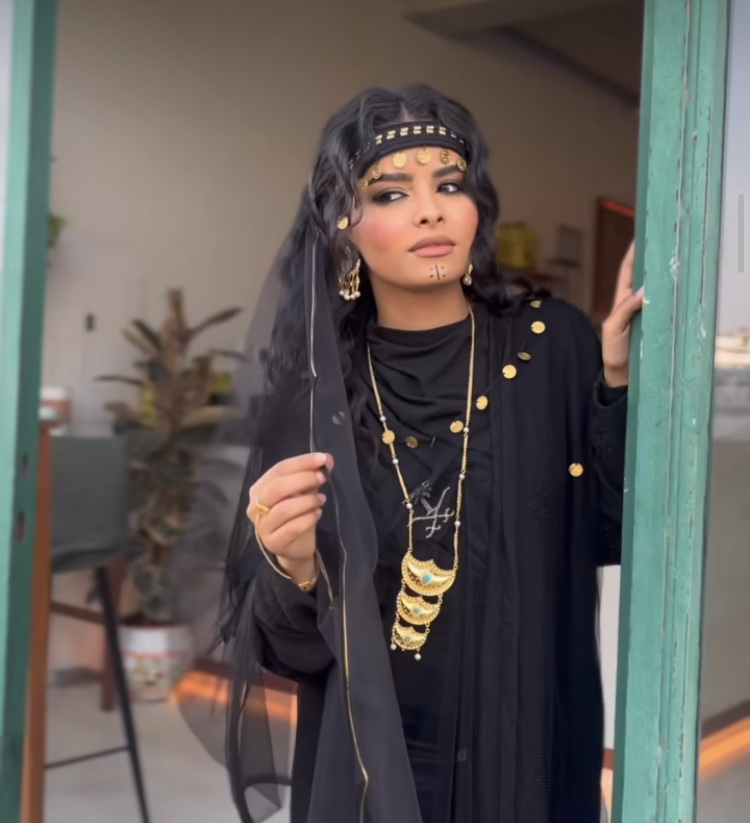Saudi_Founding_Day: (164, 80, 645, 822)
